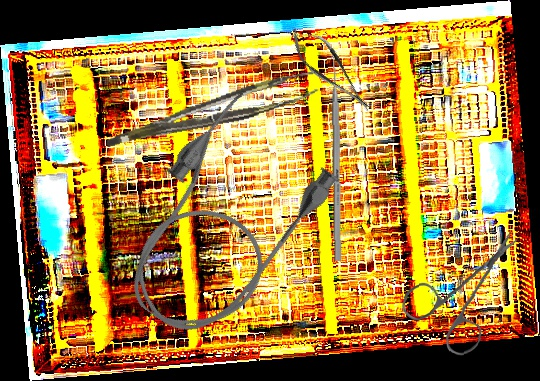Cannula: (94, 82, 349, 359)
Iris Scissors: (397, 231, 527, 360)
Micro Scissor: (280, 17, 382, 123)
Pusher: (330, 46, 342, 262)
Tissue Forceps: (101, 71, 322, 147)
